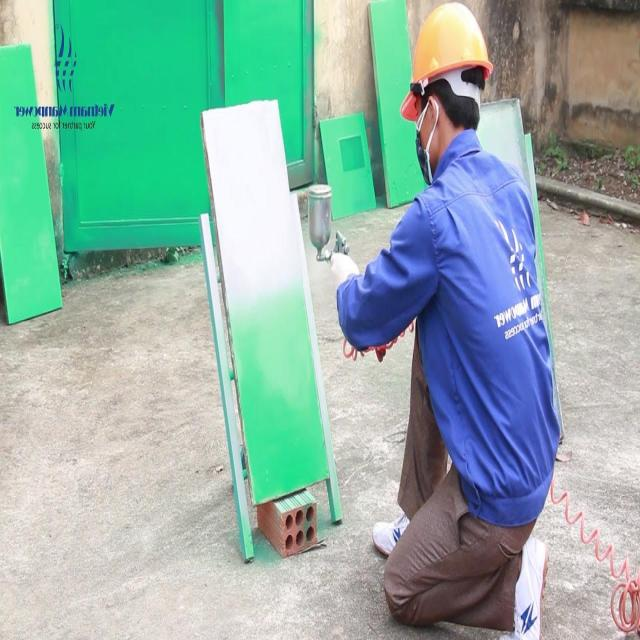Safety-Helmet: (399, 0, 495, 113)
